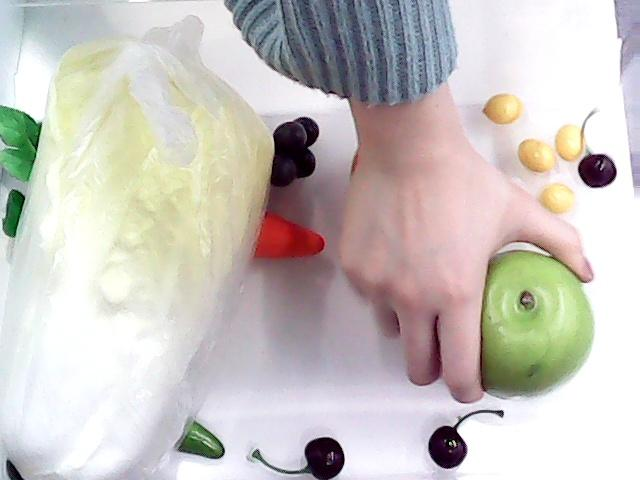apple: (453, 224, 615, 402)
carrot: (251, 210, 325, 262)
grape: (268, 104, 322, 196)
napa cabbage: (2, 32, 280, 476)
pepper: (170, 414, 226, 462)
